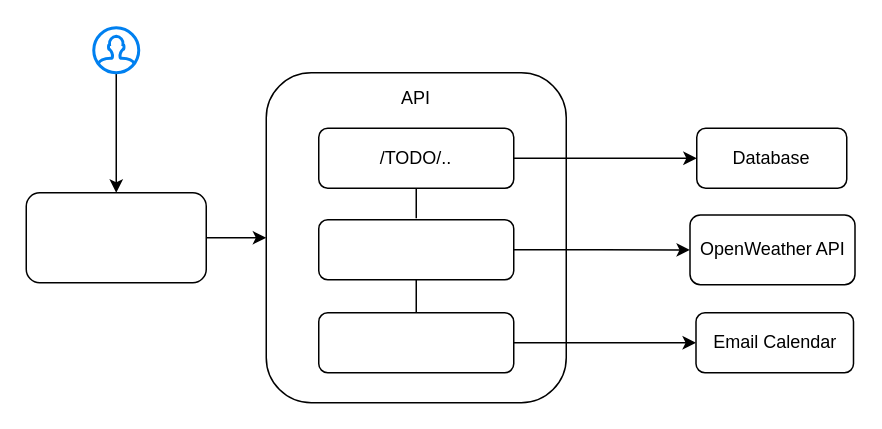
Image size: 882x429. Some labels were removed from this diagram. Here are the shapes that lost their labels. From the top down, the centre of each, then its label:
At point 115,237: "MVC".
At point 415,249: "/weather/..".
At point 415,342: "/events/..".
